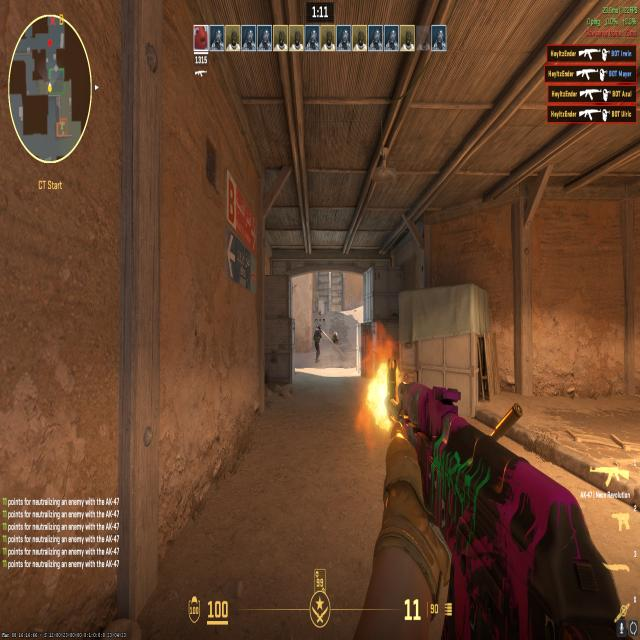ct: (308, 321, 326, 365)
